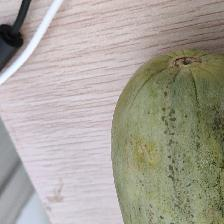gua: (142, 49, 218, 216)
